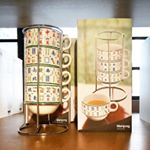cups: (22, 83, 73, 115), (80, 93, 120, 123)
